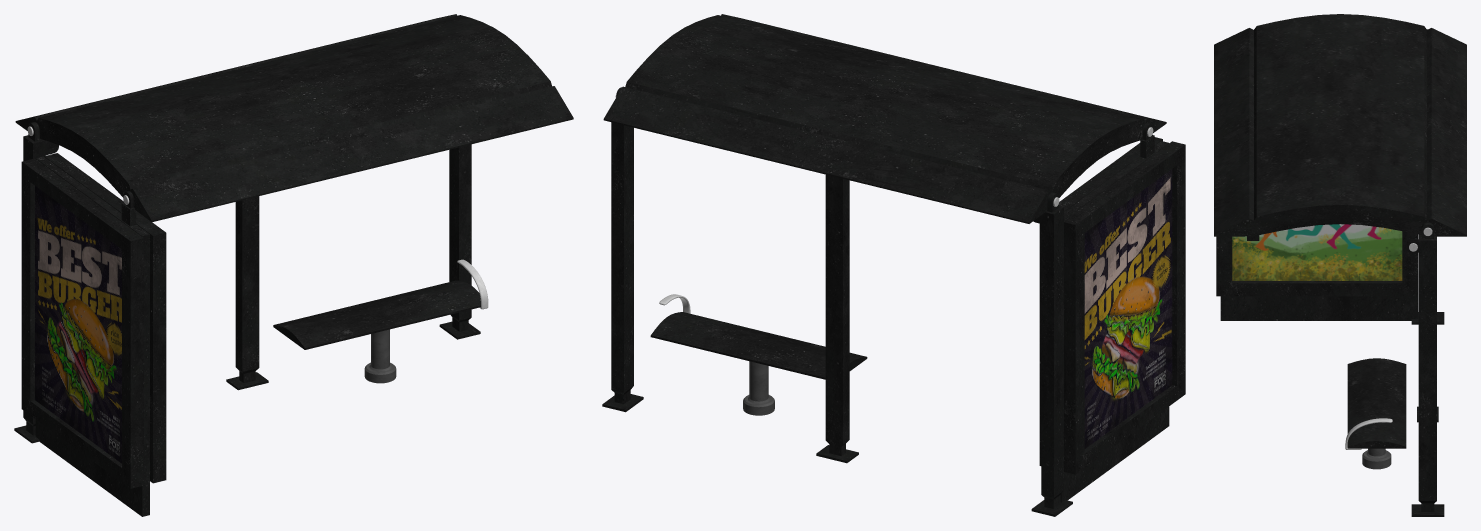
The model's file is ParadaCamion.fbx.
3 renders of one model, left to right at view 1: azimuth 30°, elevation 25°; view 2: azimuth 150°, elevation 25°; view 3: azimuth 270°, elevation 25°, orthographic. The views are drawn at different scales.
Visible parts, largest first — view 1: Cube.023_Bus stop texture_0.004; view 2: Cube.023_Bus stop texture_0.004; view 3: Cube.023_Bus stop texture_0.004.
Boxes of the visible parts, x1,y1,x2,y2 form: Cube.023_Bus stop texture_0.004: [14, 14, 573, 516]; Cube.023_Bus stop texture_0.004: [602, 14, 1185, 516]; Cube.023_Bus stop texture_0.004: [1214, 14, 1466, 516].
Bounding box in the file's own units: 99.48 × 51.59 × 68.96.
Materials: 1 (1 with a texture image).
